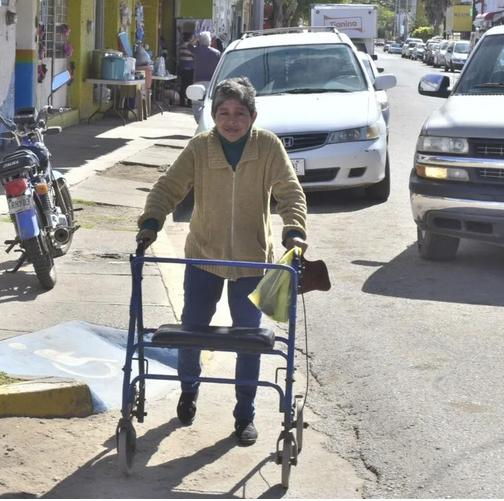walking_frame: (115, 77, 332, 488)
